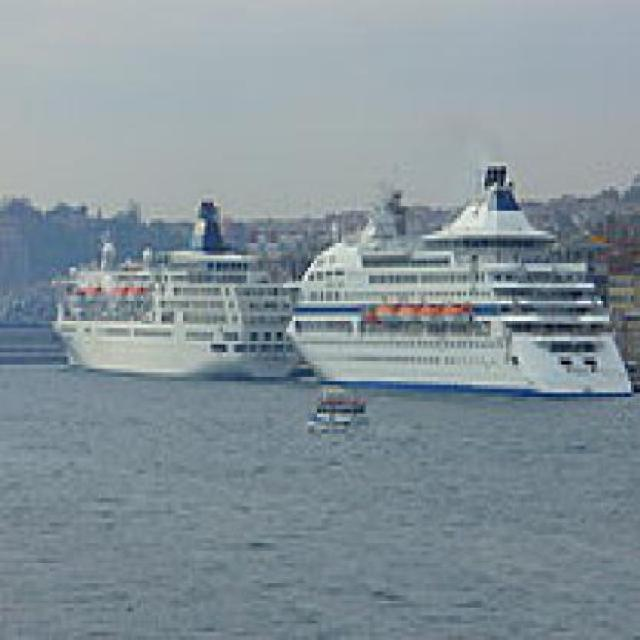cruise: (278, 155, 638, 415), (35, 192, 315, 393)
